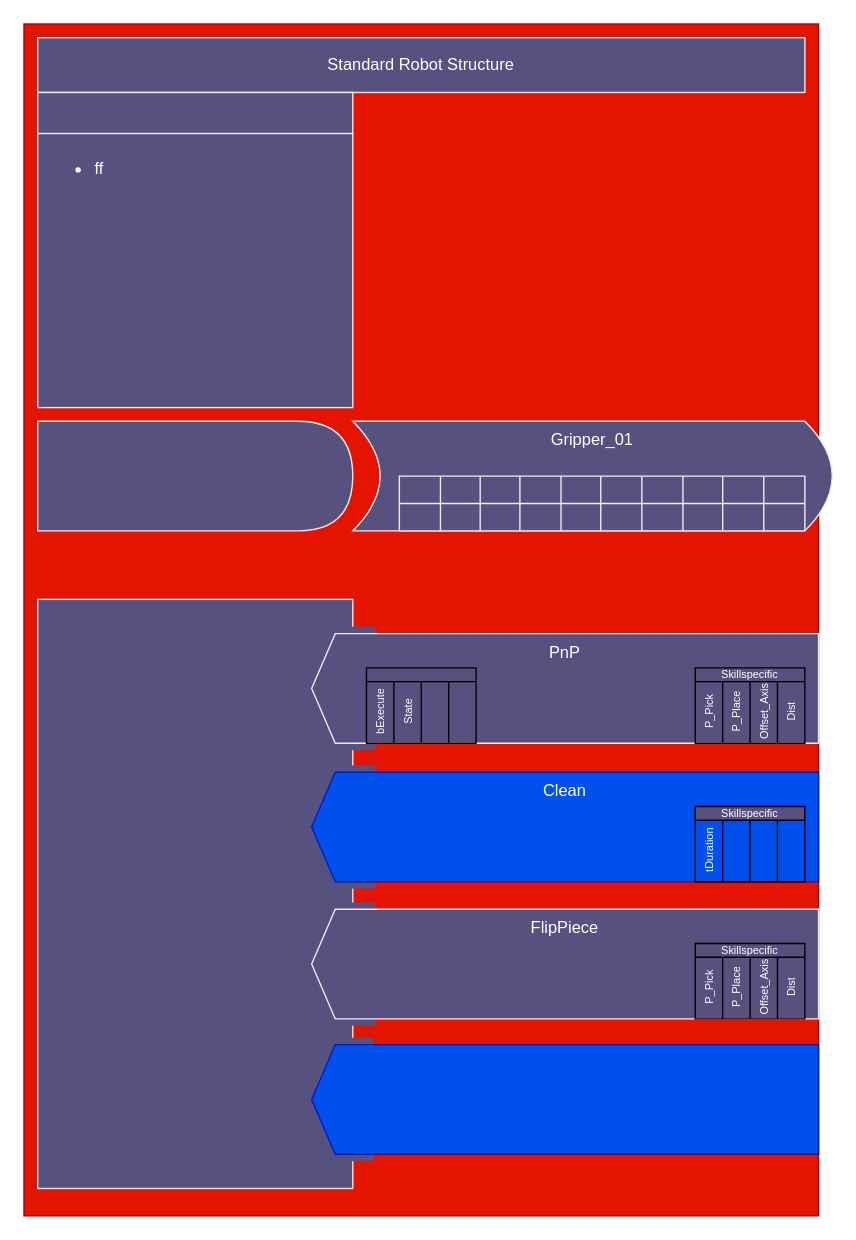
The diagram is 856 pixels wide and 1240 high, and some of its shapes have lost their labels. The box of each missing label's shape, as (x1, y1, x2, y2) in pixels:
General: (365, 667, 476, 743)
PickUpBring: (310, 1043, 819, 1154)
Public Methods: (36, 91, 353, 134)
Skills: (36, 598, 353, 1188)
Tool: (36, 420, 353, 531)
